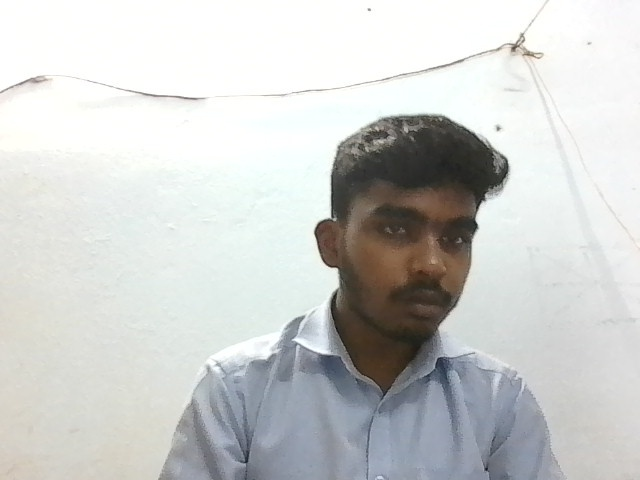real: (321, 114, 491, 355)
